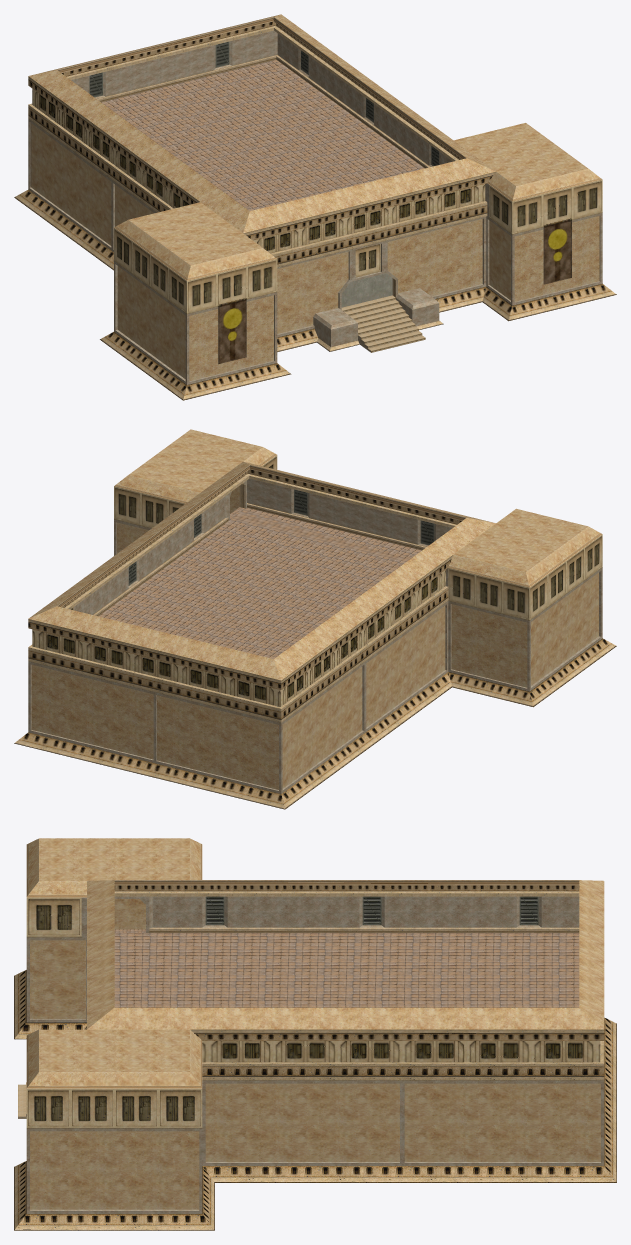
File: ply_tato_assoc_hall_civ_s01_l0.fbx
The picture shows the model from 3 angles, top to bottom: view 1: azimuth 30°, elevation 25°; view 2: azimuth 150°, elevation 25°; view 3: azimuth 270°, elevation 25°; orthographic projection. The views are drawn at different scales.
Visible parts, largest first — view 1: mesh_node; view 2: mesh_node; view 3: mesh_node.
Part boxes in pixels (x1,y1,x2,y2): mesh_node: (14,14,616,400); mesh_node: (14,429,616,809); mesh_node: (14,838,616,1230).
Size of the model in its own units: 48 by 14 by 48.
